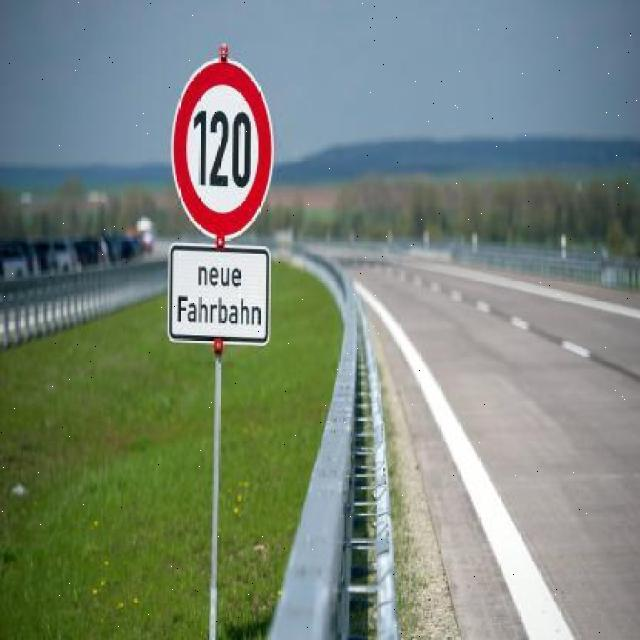speed limit 120: (168, 59, 275, 245)
